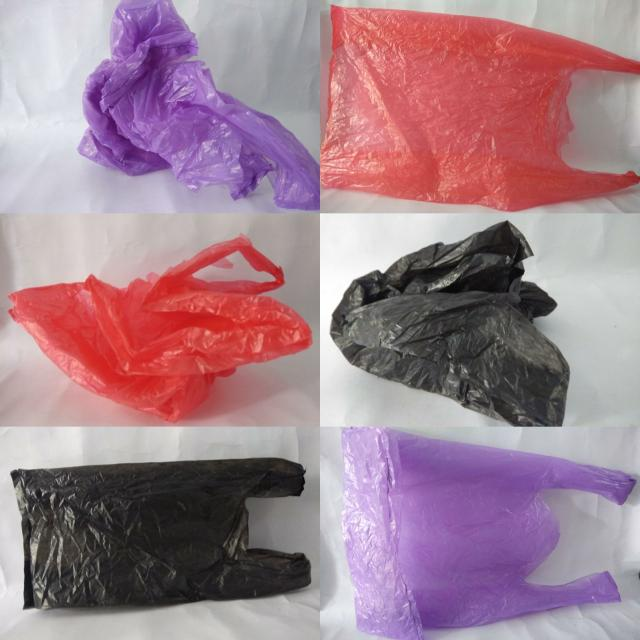Single-layer Plastic: (320, 6, 639, 211), (342, 428, 635, 640), (9, 235, 311, 422), (79, 0, 319, 210), (330, 221, 569, 426), (11, 458, 310, 609)
